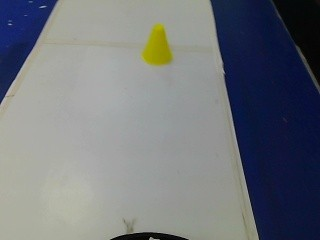cone: (139, 20, 174, 63)
